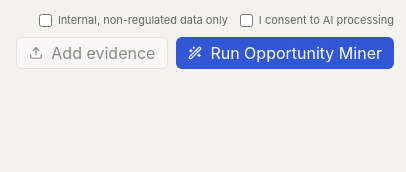
Scenario: OpportunityActions source consent › requires both internal/non-regulated acknowledgement and AI-processing consent before upload
Expected: the button "Add evidence" is disabled, top-left (16, 36), bottom-right (168, 68)
Click the checkbox labelled "Internal, non-regulated data only" at (45, 20), box top-left (39, 14), bottom-right (52, 27)
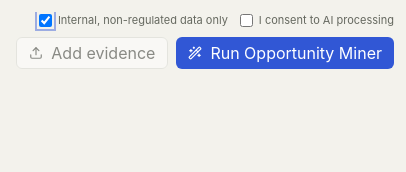
Expected: the button "Add evidence" is disabled, top-left (16, 36), bottom-right (168, 68)
Click the checkbox labelled "I consent to AI processing" at (246, 20), box top-left (240, 14), bottom-right (253, 27)
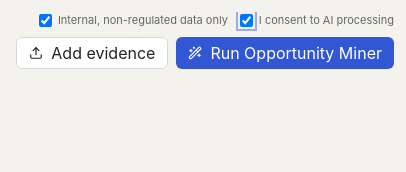
Result: the button "Add evidence" is enabled at top-left (16, 36), bottom-right (168, 68)
